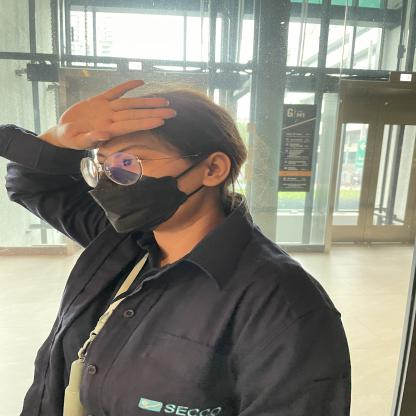Sick: (20, 61, 179, 154)
